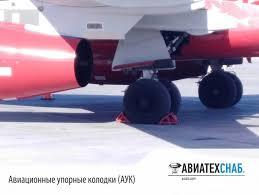boots: (159, 111, 181, 124), (114, 111, 133, 124)
wheels: (123, 78, 171, 125), (196, 71, 244, 110)
